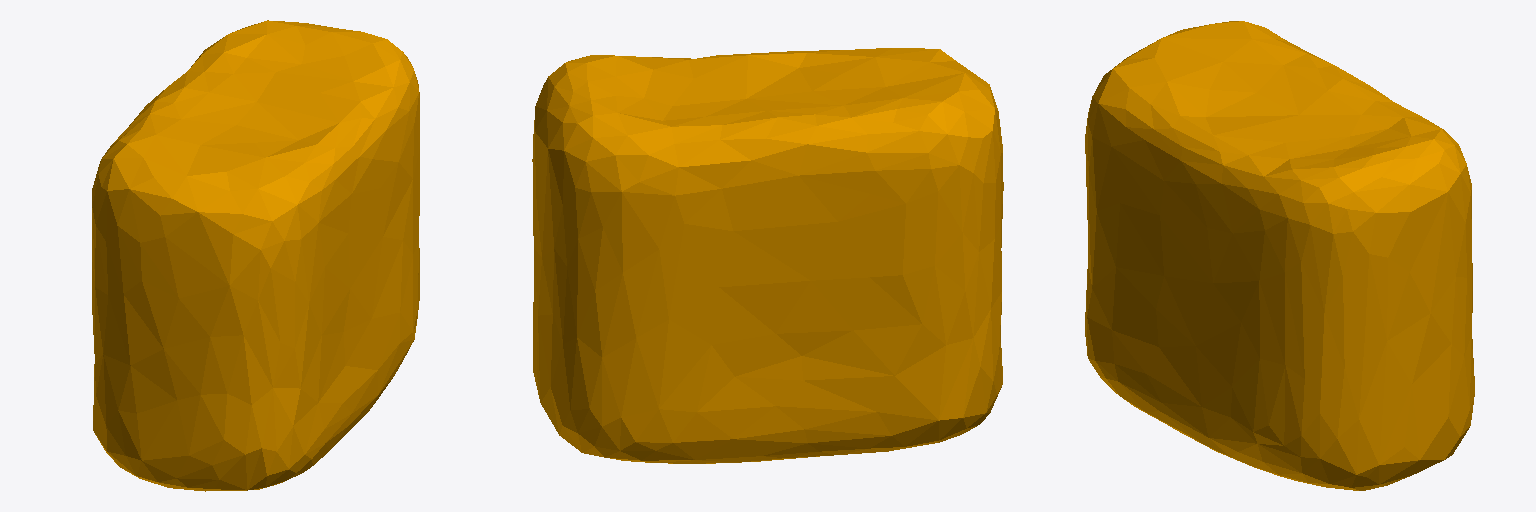
URDF robot description (potted_meat_can):
<?xml version="1.0"?>
<robot name="potted_meat_can">
  <link name="base_link">
    <contact>
      <lateral_friction value="1.0"/>
      <rolling_friction value="0.0"/>
      <contact_cfm value="0.0"/>
      <contact_erp value="1.0"/>
    </contact>
    <inertial>
      <mass value="0.270505347176"/>
      <inertia ixx="1" ixy="0" ixz="0" iyy="1" iyz="0" izz="1"/>
    </inertial>
    <visual>
      <geometry>
        <mesh filename="potted_meat_can_visual.obj"/>
      </geometry>
    </visual>
    <collision>
      <geometry>
        <mesh filename="potted_meat_can_collision.obj"/>
      </geometry>
    </collision>
  </link>
</robot>

--- What the picture shows (computed from the rendered views, not written in the file) ---
3 views of the same robot in one strip: view 1: azimuth 30°, elevation 25°; view 2: azimuth 150°, elevation 25°; view 3: azimuth 270°, elevation 25° (orthographic).
Robot: potted_meat_can — 1 links, 0 joints (none); root link base_link; default pose: every joint at zero.
Links seen in each view (by area): view 1: base_link; view 2: base_link; view 3: base_link.
Link boxes in pixels (x1,y1,x2,y2): base_link: [92, 20, 419, 491]; base_link: [532, 48, 1003, 463]; base_link: [1085, 21, 1474, 490].
Size in the robot's own frame: 0.0767 by 0.07 by 0.0674 metres.
1 mesh visuals loaded from 1 distinct referenced files (1 OBJ).